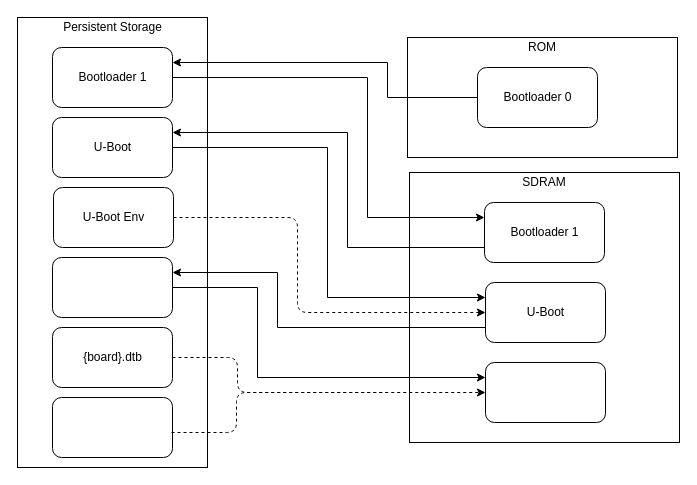
The diagram is 697 pixels wide and 485 high, and some of its shapes have lost their labels. Each missing label, with the centre of its shape:
"Linux Kernel" belongs at [545,392].
"rootfs" belongs at [112,427].
"zImage" belongs at [112,287].
